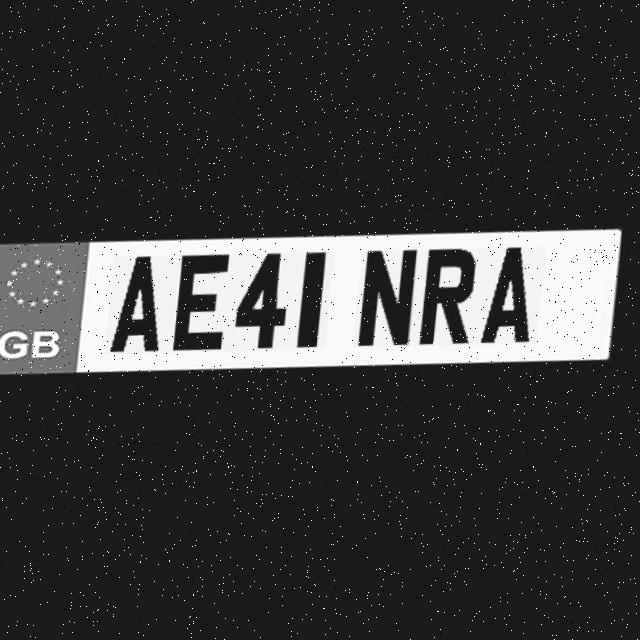license-plates: (0, 228, 622, 373)
